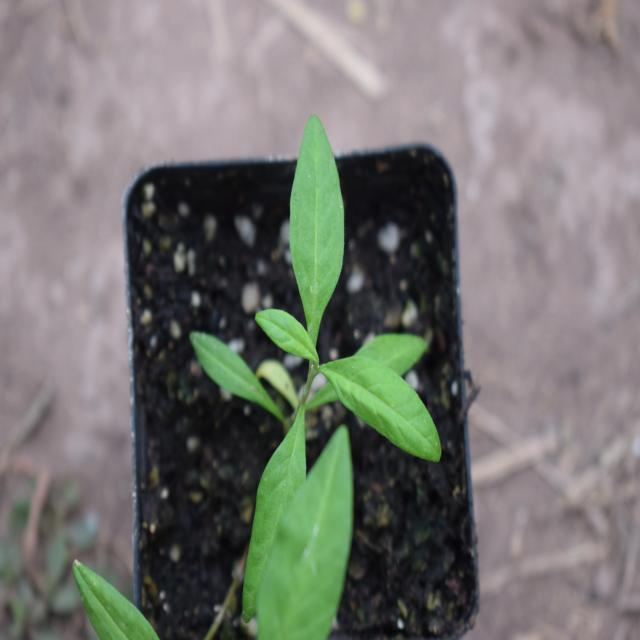white_smart_weed: (200, 100, 447, 567)
